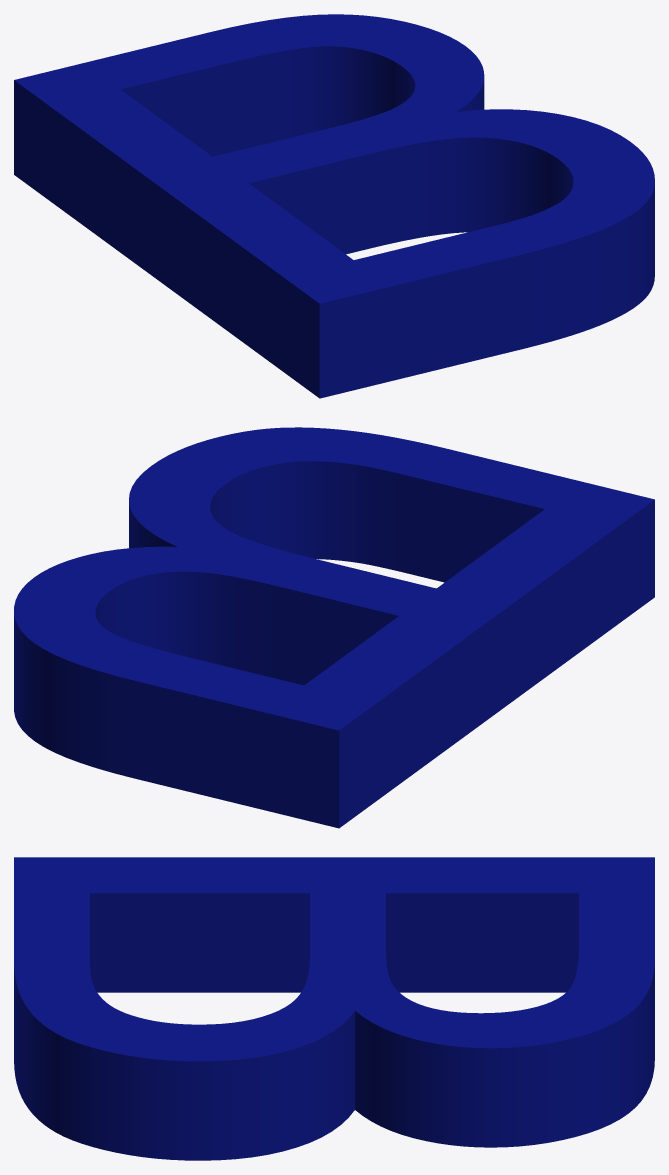
The picture shows the model from 3 angles, top to bottom: view 1: azimuth 30°, elevation 25°; view 2: azimuth 150°, elevation 25°; view 3: azimuth 270°, elevation 25°; orthographic projection. The views are drawn at different scales.
Parts seen in each view (by area): view 1: TextPlus002; view 2: TextPlus002; view 3: TextPlus002.
Boxes of the visible parts, x1,y1,x2,y2 form: TextPlus002: (14,14,654,398); TextPlus002: (14,427,654,828); TextPlus002: (14,857,654,1160).
Size of the model in its own units: 19.32 by 4.38 by 25.64.
